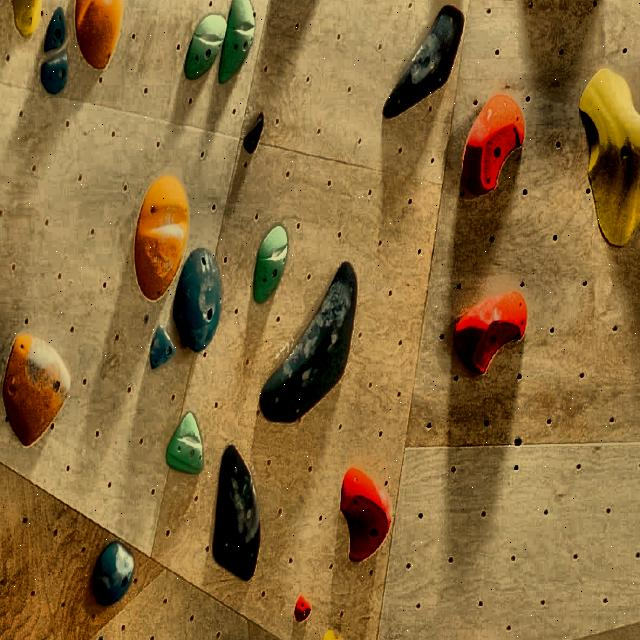Hold: (260, 262, 357, 422), (383, 5, 464, 117), (3, 335, 70, 445), (135, 174, 188, 299), (213, 446, 260, 581), (464, 94, 525, 195), (454, 292, 527, 373), (174, 249, 221, 352), (341, 467, 390, 561), (76, 0, 124, 70), (219, 0, 254, 83), (185, 14, 227, 80), (253, 225, 288, 303), (94, 540, 134, 606), (167, 412, 203, 474), (40, 50, 68, 95), (13, 0, 44, 39), (149, 326, 174, 369), (44, 9, 65, 51), (243, 113, 264, 154), (295, 595, 311, 622), (322, 629, 343, 640)
Macro: (580, 68, 640, 247)
